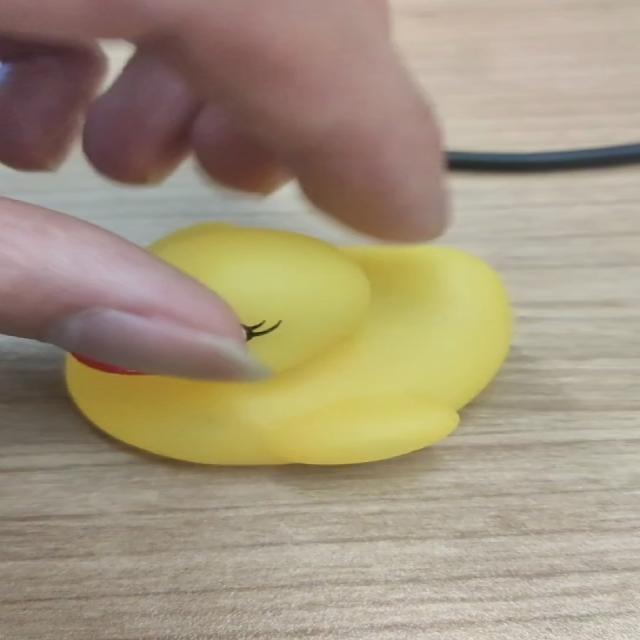rubber-duck: (65, 223, 509, 463)
